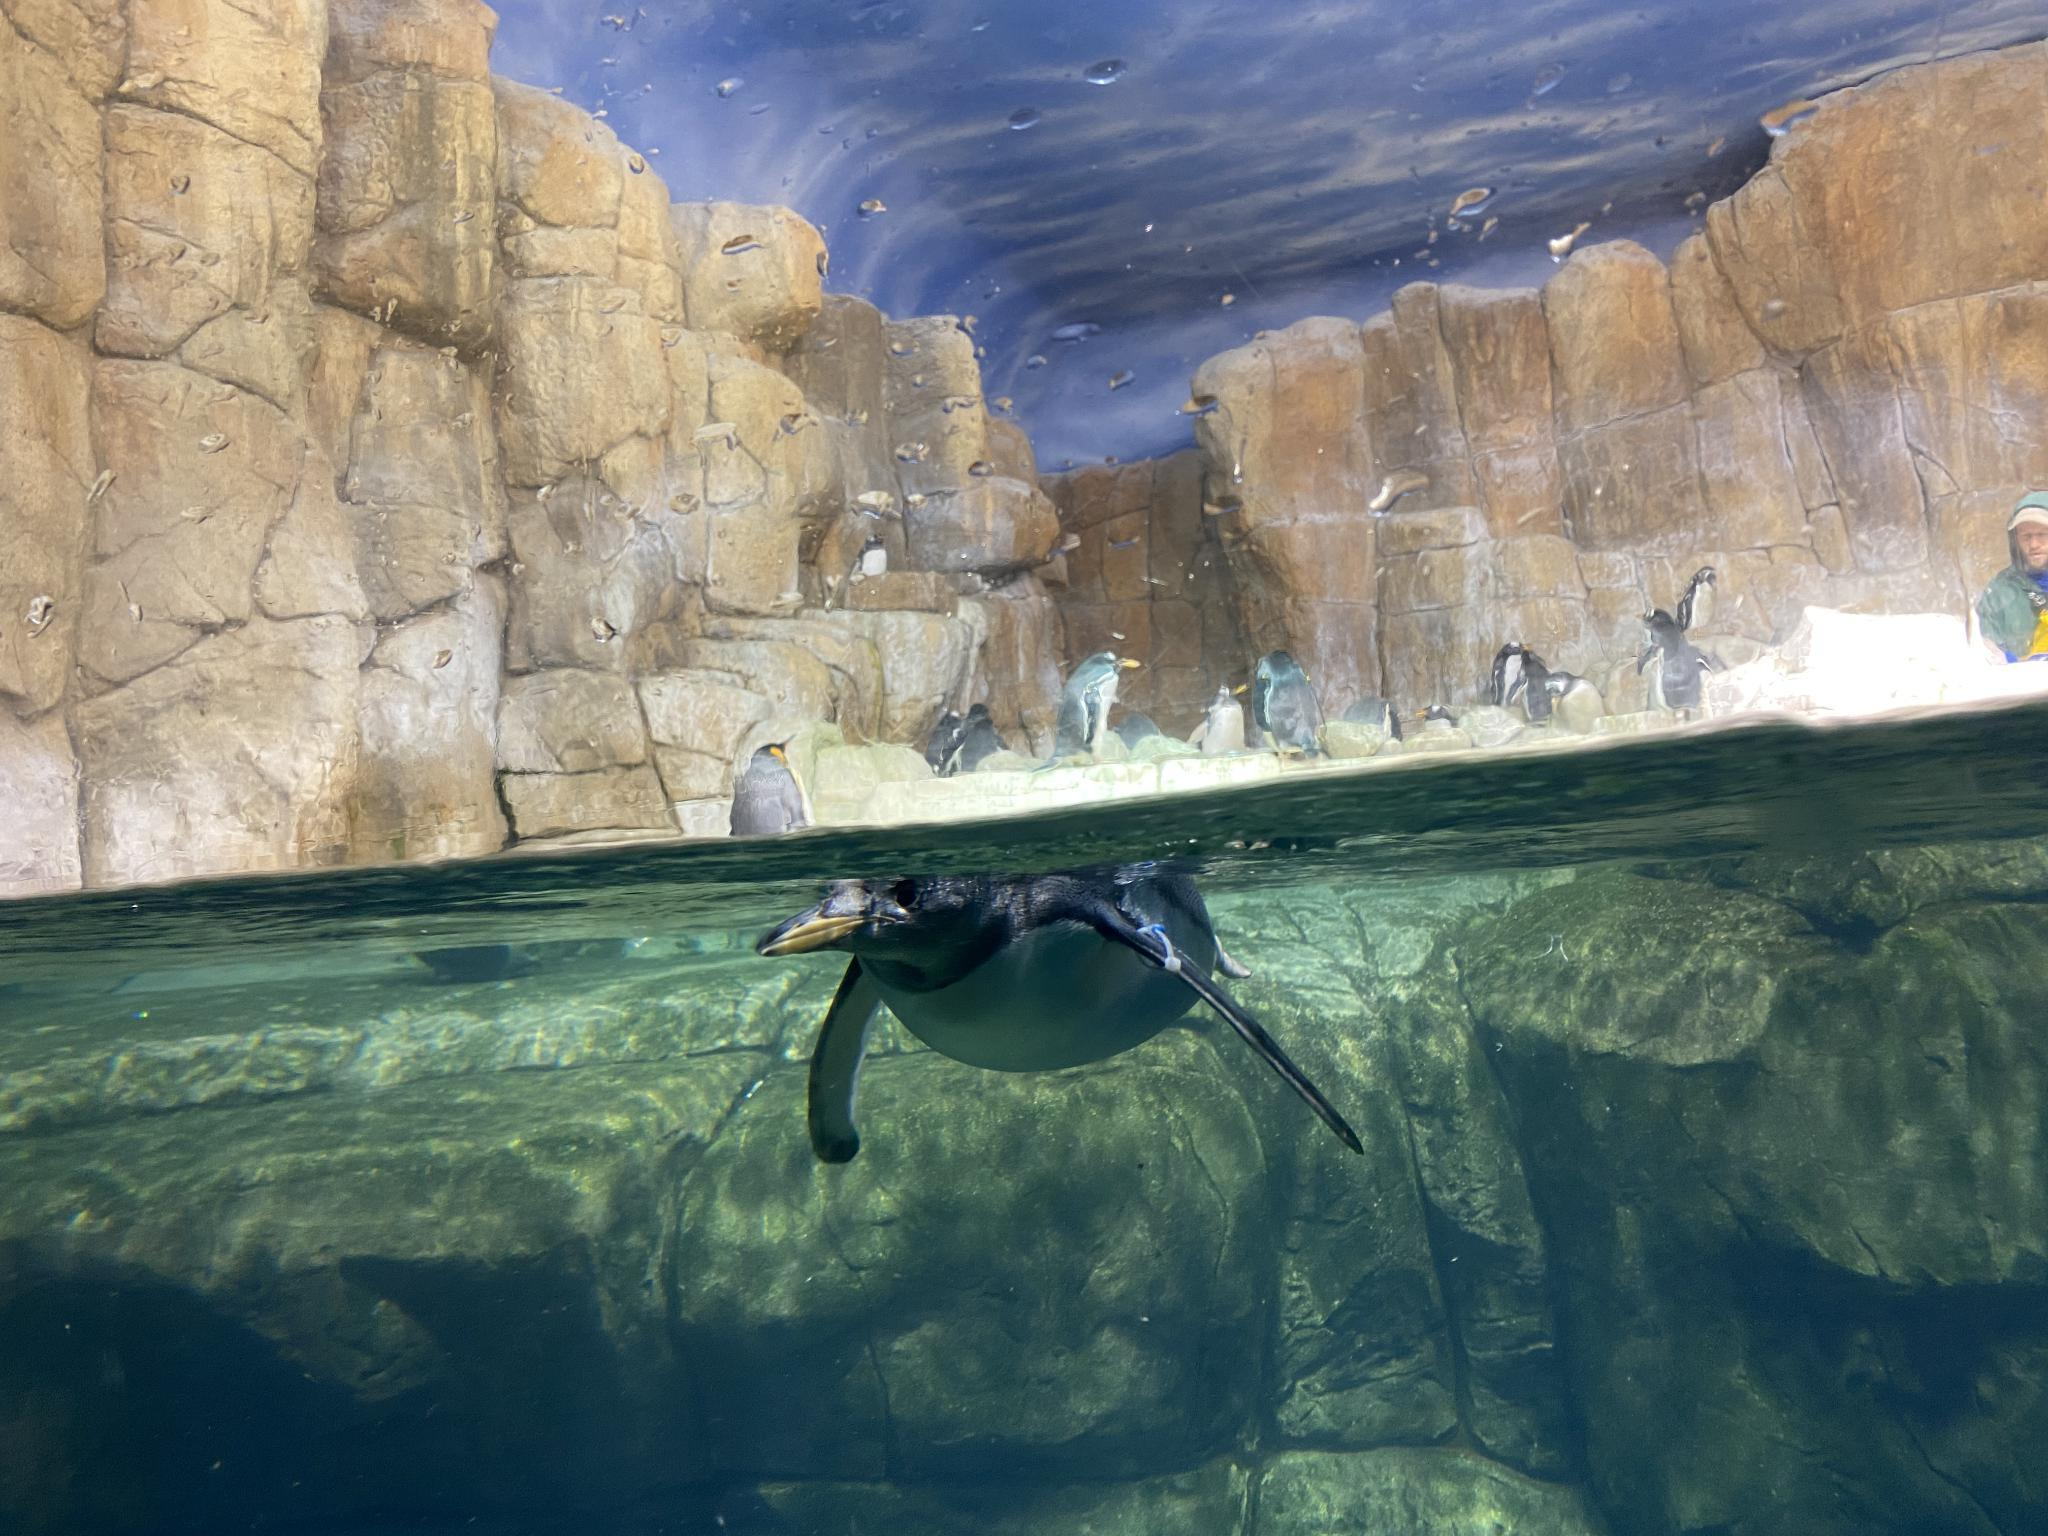penguin: (753, 857, 1367, 1163), (1043, 641, 1143, 778), (1250, 644, 1332, 774), (727, 733, 818, 839), (1634, 605, 1709, 712), (937, 697, 1009, 791), (1184, 671, 1248, 766), (1672, 565, 1724, 641), (918, 699, 966, 779), (1505, 650, 1553, 731), (1485, 641, 1535, 715), (1414, 699, 1463, 745), (1377, 694, 1405, 750)
